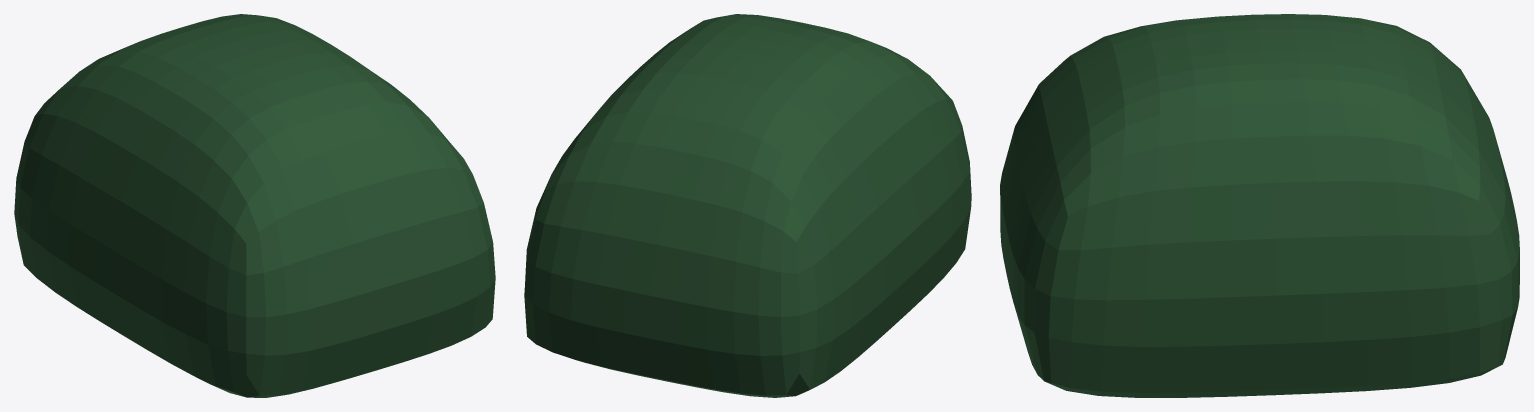
File: EntranceGateBush1.fbx
3 views of the same model, side by side, from view 1: azimuth 30°, elevation 25°; view 2: azimuth 150°, elevation 25°; view 3: azimuth 270°, elevation 25° (orthographic). The views are drawn at different scales.
Parts seen in each view (by area): view 1: EntranceGateBush1; view 2: EntranceGateBush1; view 3: EntranceGateBush1.
Part boxes in pixels (box(x1,y1,x2,y2)): EntranceGateBush1: box(14, 14, 495, 397); EntranceGateBush1: box(524, 14, 971, 397); EntranceGateBush1: box(1000, 14, 1519, 397).
Bounding box in the file's own units: 3 × 2.49 × 3.88.
